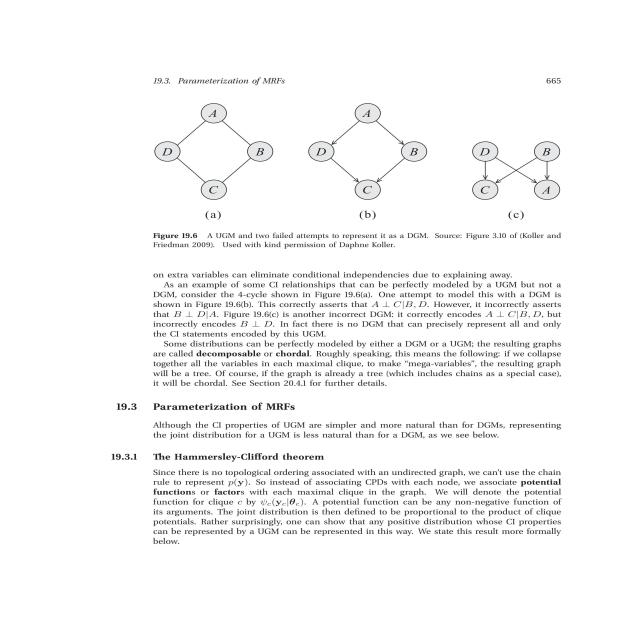diagram: (92, 90, 620, 260)
